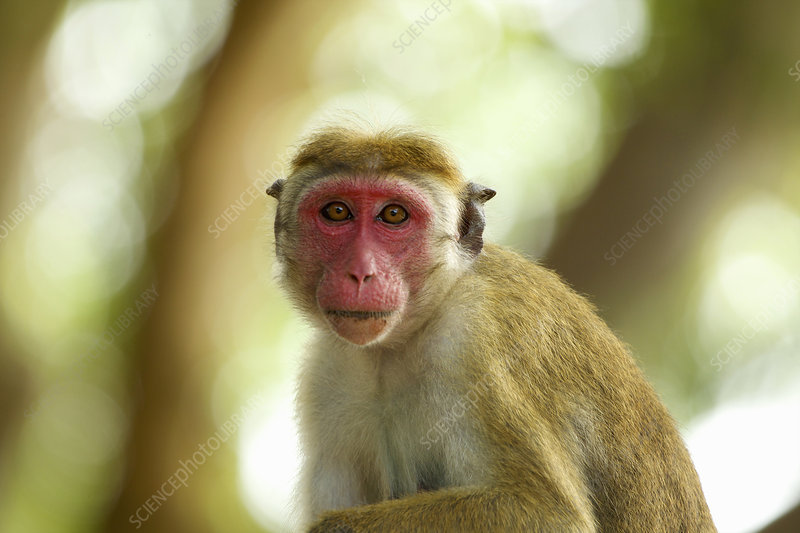Monkey: (249, 98, 721, 533)
